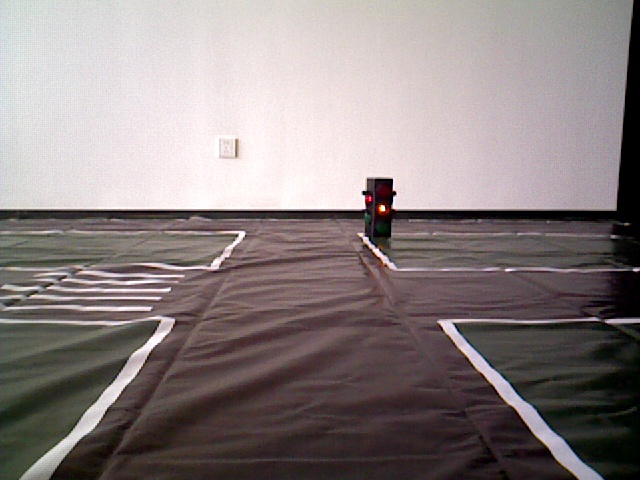yellow: (363, 173, 393, 236)
